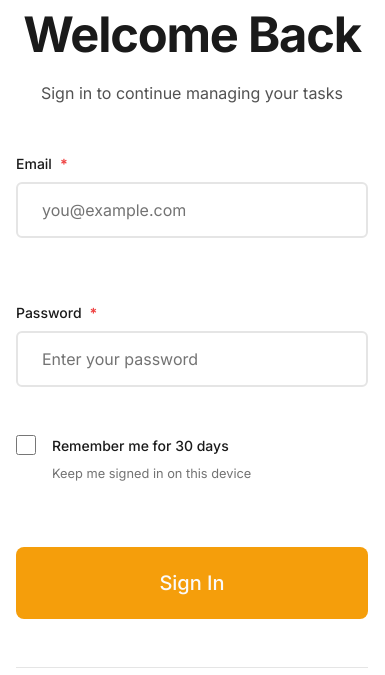
Test: Login Page › Error Messages › displays form-level error when login fails
Type "test@example.com" into the field labelled "Email *" at (192, 210), box x1=16 y1=182 x2=368 y2=238
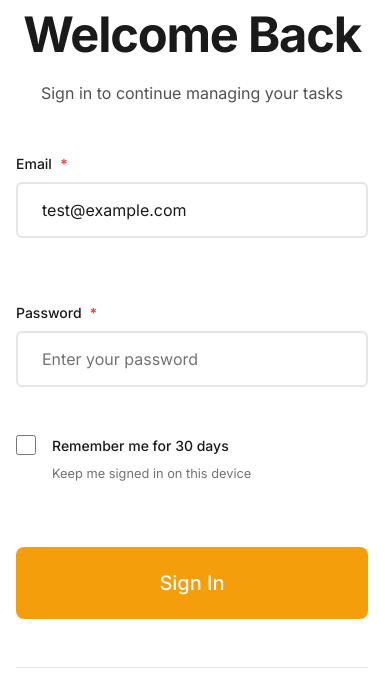
Type "wrongpassword" into the password field labelled "Password *" at (192, 359), box x1=16 y1=331 x2=368 y2=387
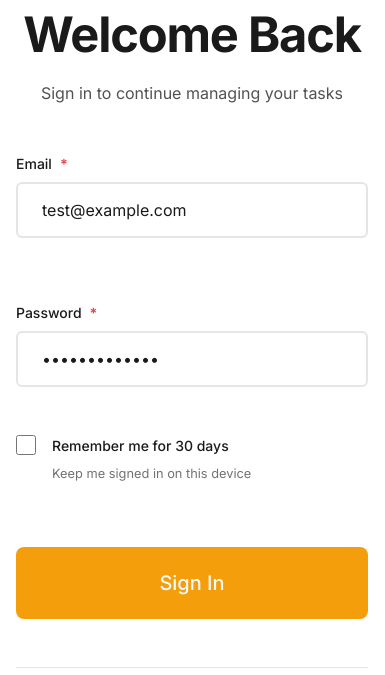
Click the button "Sign In" at (192, 583), box x1=16 y1=547 x2=368 y2=619
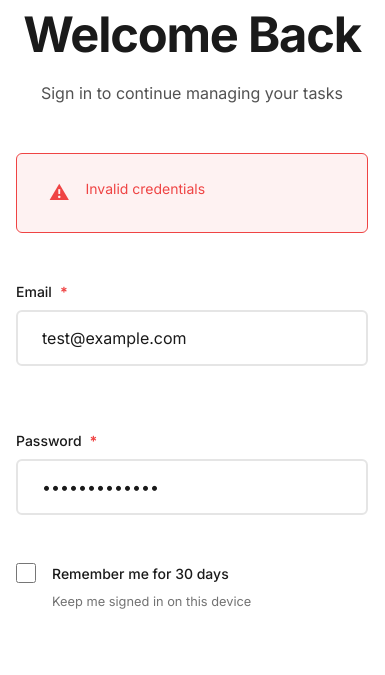
expect the text "Invalid credentials" is shown: met, box x1=86 y1=178 x2=205 y2=199
